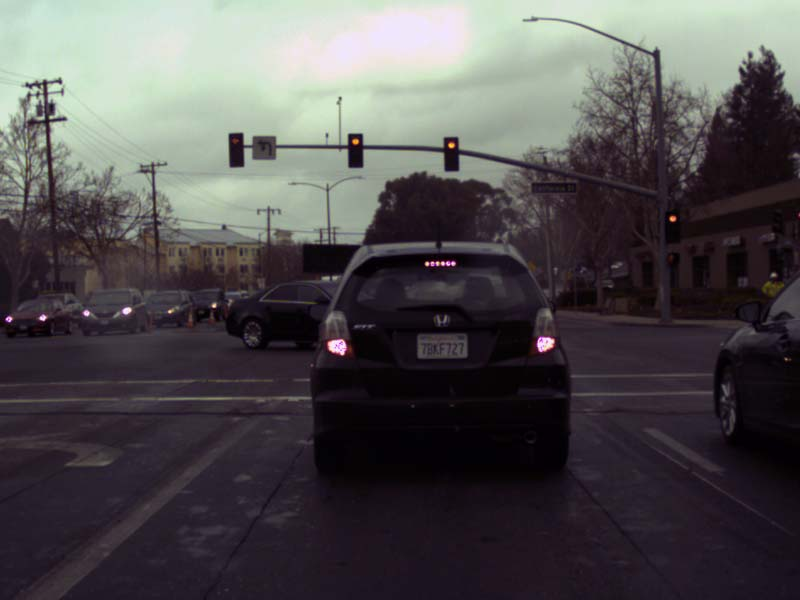Red: (444, 137, 458, 170), (229, 133, 242, 166), (348, 134, 361, 167), (665, 210, 678, 243)
